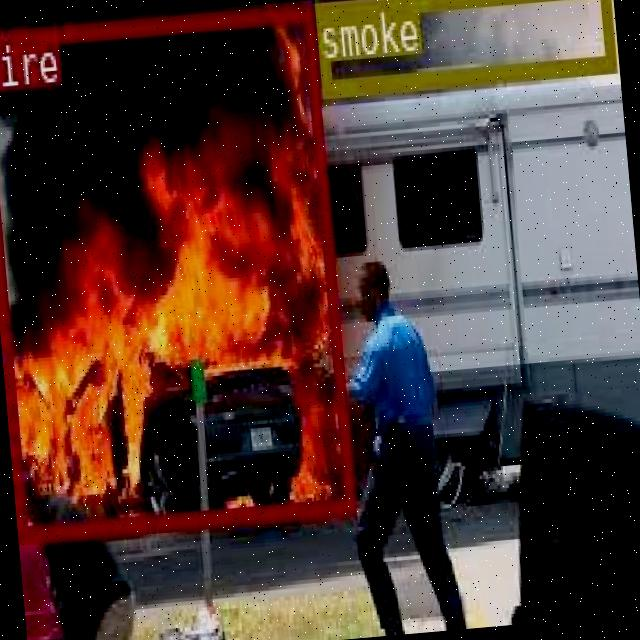fire: (0, 1, 354, 540)
smoke: (313, 0, 614, 93)
